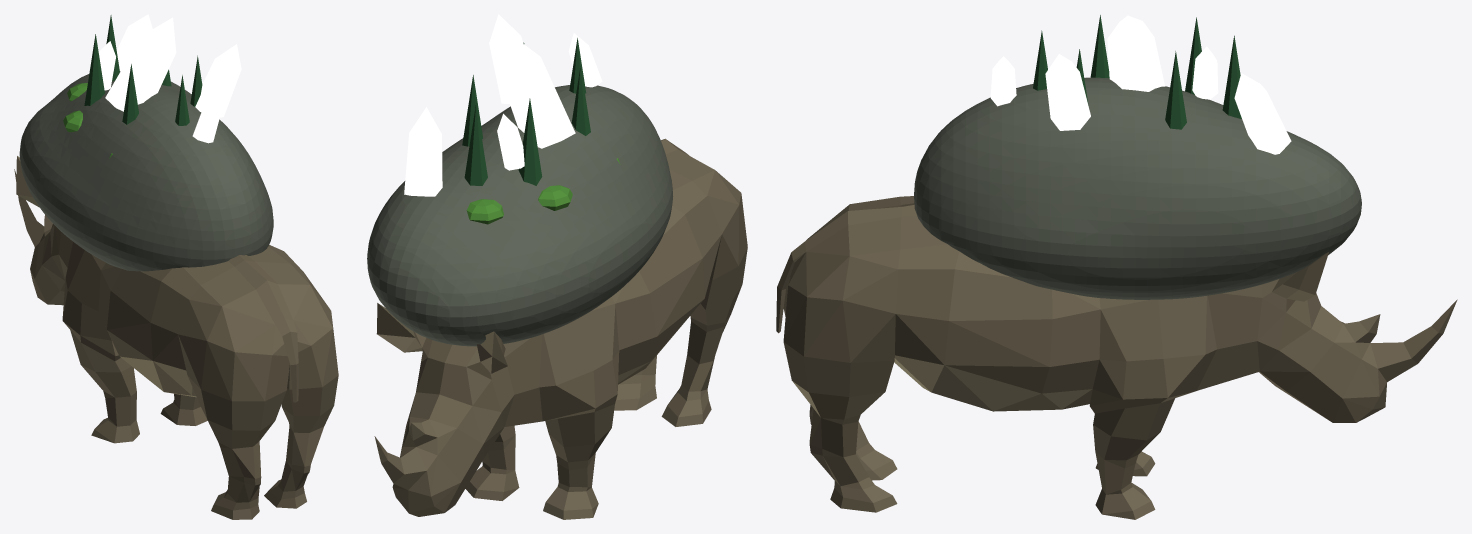
The model's file is Terragon.fbx.
3 renders of one model, left to right at view 1: azimuth 30°, elevation 25°; view 2: azimuth 150°, elevation 25°; view 3: azimuth 270°, elevation 25°, orthographic. The views are drawn at different scales.
Parts seen in each view (by area): view 1: Deco_Shell, Head, Body, Glow_82f06e, LegFL, Deco_ShellMoss, LegFR, LegBL, Tail1; view 2: Deco_Shell, Body, Glow_82f06e, Head, LegBL, Deco_ShellMoss, LegFL, LegFR, LegBR, Tail1; view 3: Deco_Shell, Body, Head, Glow_82f06e, LegFR, LegBR, Deco_ShellMoss, Tail1, LegFL.
Boxes of the visible parts, x1,y1,x2,y2 form: Deco_Shell: (19, 71, 273, 271); Head: (150, 245, 338, 478); Body: (16, 156, 270, 391); Glow_82f06e: (98, 14, 241, 143); LegFL: (80, 335, 261, 519); Deco_ShellMoss: (63, 15, 202, 158); LegFR: (163, 393, 310, 508); LegBL: (30, 245, 115, 442); Tail1: (14, 169, 44, 267); Deco_Shell: (367, 85, 672, 346); Body: (376, 206, 721, 481); Glow_82f06e: (404, 14, 602, 196); Head: (661, 138, 747, 331); LegBL: (408, 404, 614, 519); Deco_ShellMoss: (462, 38, 620, 224); LegFL: (586, 317, 729, 508); LegFR: (500, 355, 656, 491); LegBR: (392, 434, 518, 513); Tail1: (374, 423, 437, 495); Deco_Shell: (914, 77, 1361, 299); Body: (896, 251, 1379, 411); Head: (776, 196, 959, 443); Glow_82f06e: (990, 15, 1291, 154); LegFR: (809, 365, 1146, 514); LegBR: (1103, 360, 1386, 519); Deco_ShellMoss: (1033, 15, 1241, 129); Tail1: (1369, 299, 1457, 381); LegFL: (809, 405, 1141, 480).
Size of the model in its own units: 8.6 by 18.81 by 24.
Materials: 3 (1 with a texture image).
